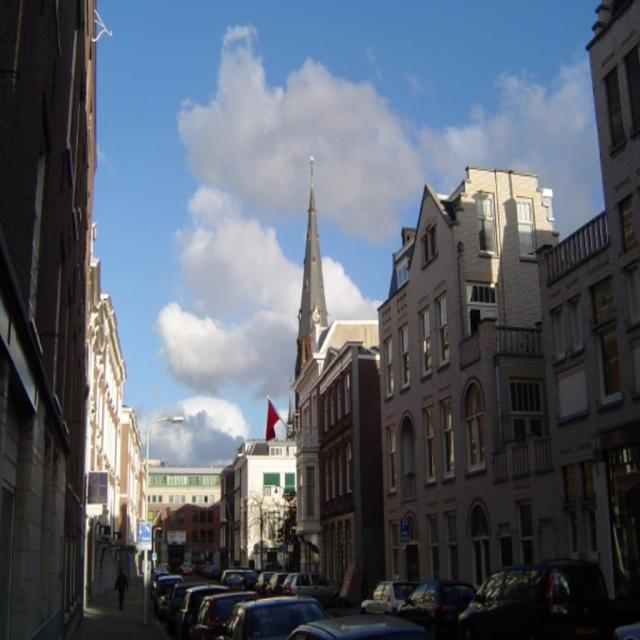car: (145, 561, 428, 637)
